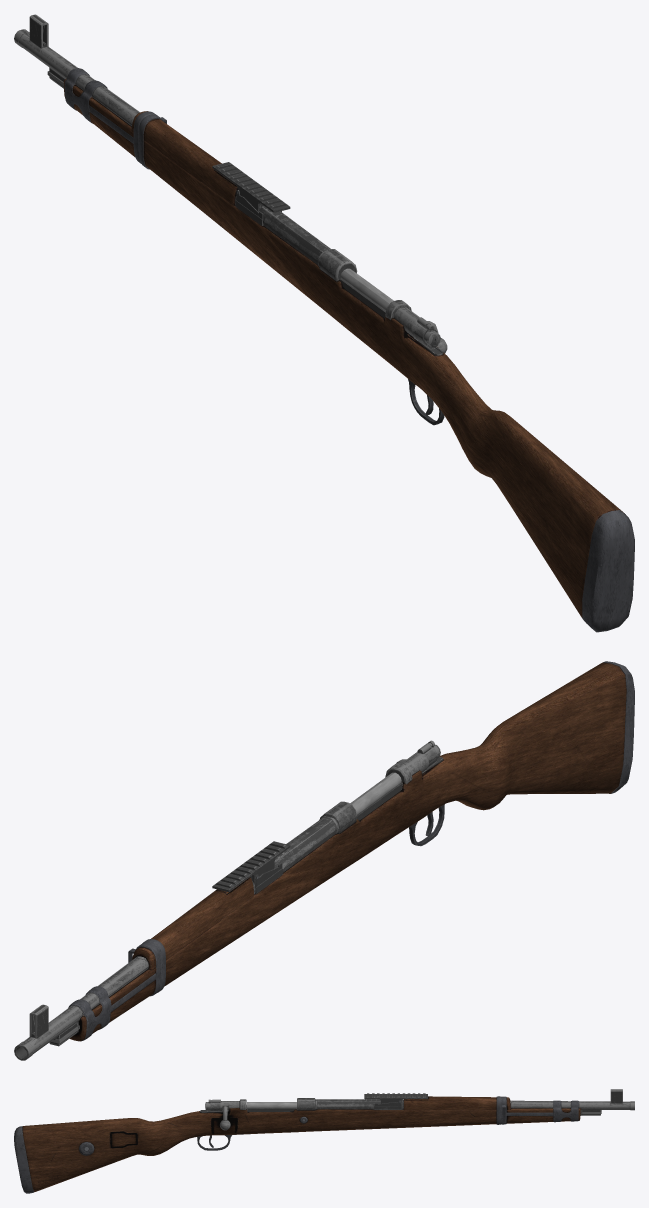
File: gun.glb
3 renders of one model, top to bottom at view 1: azimuth 30°, elevation 25°; view 2: azimuth 150°, elevation 25°; view 3: azimuth 270°, elevation 25°, orthographic. The views are drawn at different scales.
Parts seen in each view (by area): view 1: Cube.001, Cylinder.004, Cube.006; view 2: Cube.001, Cylinder.004, Cube.006 (×2), Cylinder.005; view 3: Cube.001, Cylinder.004, Cube.006 (×2), Cylinder.005.
Part boxes in pixels (box(x1,y1,x2,y2)): Cube.001: box(63, 78, 624, 617); Cylinder.004: box(14, 14, 447, 355); Cube.006: box(64, 68, 634, 632); Cube.001: box(69, 662, 626, 1041); Cylinder.004: box(14, 740, 443, 1060); Cube.006 (×2): box(68, 661, 634, 1041); Cylinder.005: box(350, 772, 401, 814); Cube.001: box(22, 1096, 580, 1192); Cylinder.004: box(200, 1089, 634, 1130); Cube.006 (×2): box(14, 1096, 578, 1193); Cylinder.005: box(247, 1102, 296, 1108).
Size of the model in its own units: 0.0978 by 0.3611 by 2.
5 materials, 5 textured.
